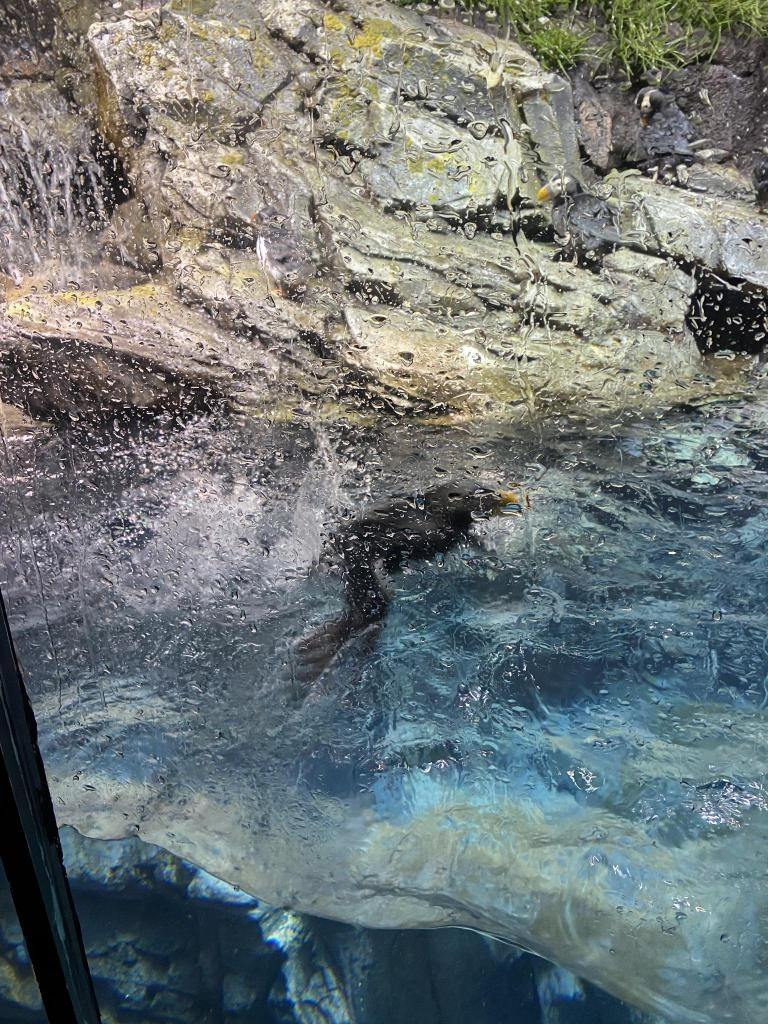puffin: (275, 480, 521, 710), (536, 168, 632, 268), (628, 84, 696, 180)
